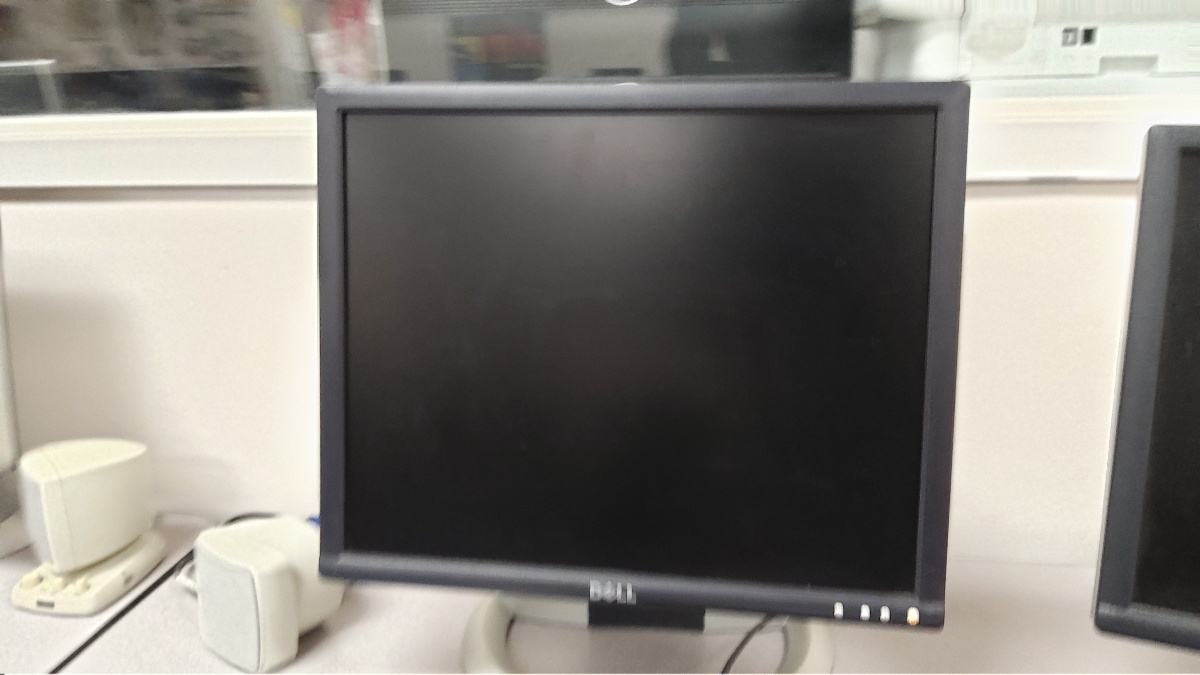monitor: (305, 77, 975, 642)
